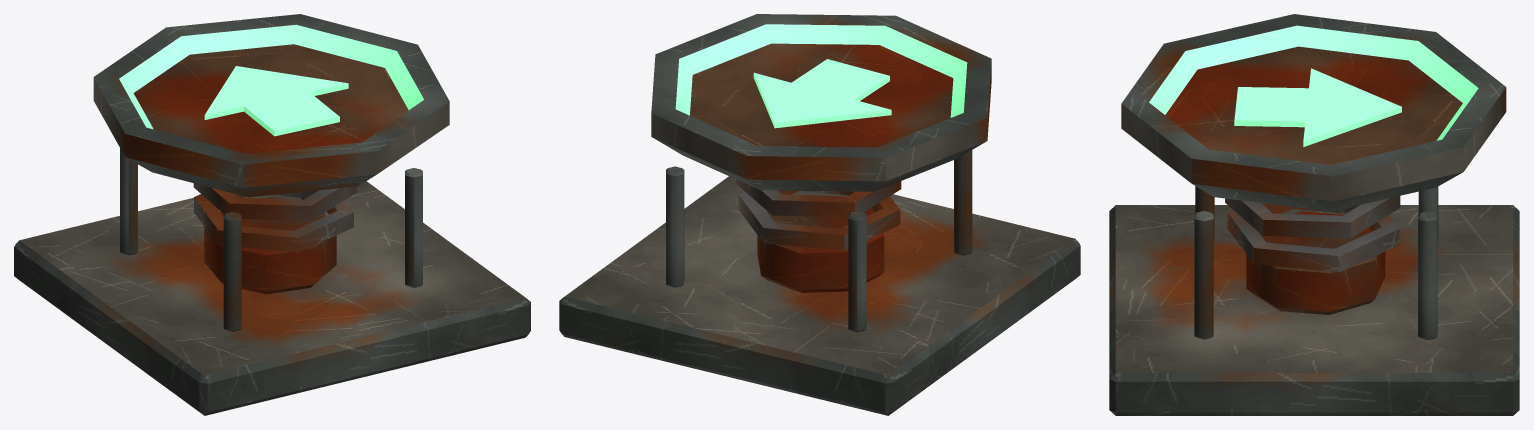
File: R4X_JumpPadDeployer_LOD1.glb
3 views of the same model, side by side, from view 1: azimuth 30°, elevation 25°; view 2: azimuth 150°, elevation 25°; view 3: azimuth 270°, elevation 25° (orthographic). The views are drawn at different scales.
Parts seen in each view (by area): view 1: R4X_JumpPadDeployer_LOD1; view 2: R4X_JumpPadDeployer_LOD1; view 3: R4X_JumpPadDeployer_LOD1.
Boxes of the visible parts, box(x1,y1,x2,y2) form: R4X_JumpPadDeployer_LOD1: box(14, 14, 530, 415); R4X_JumpPadDeployer_LOD1: box(559, 14, 1080, 415); R4X_JumpPadDeployer_LOD1: box(1109, 14, 1519, 415).
Bounding box in the file's own units: 0.52 × 0.33 × 0.52.
Materials: 5 (4 with a texture image).
